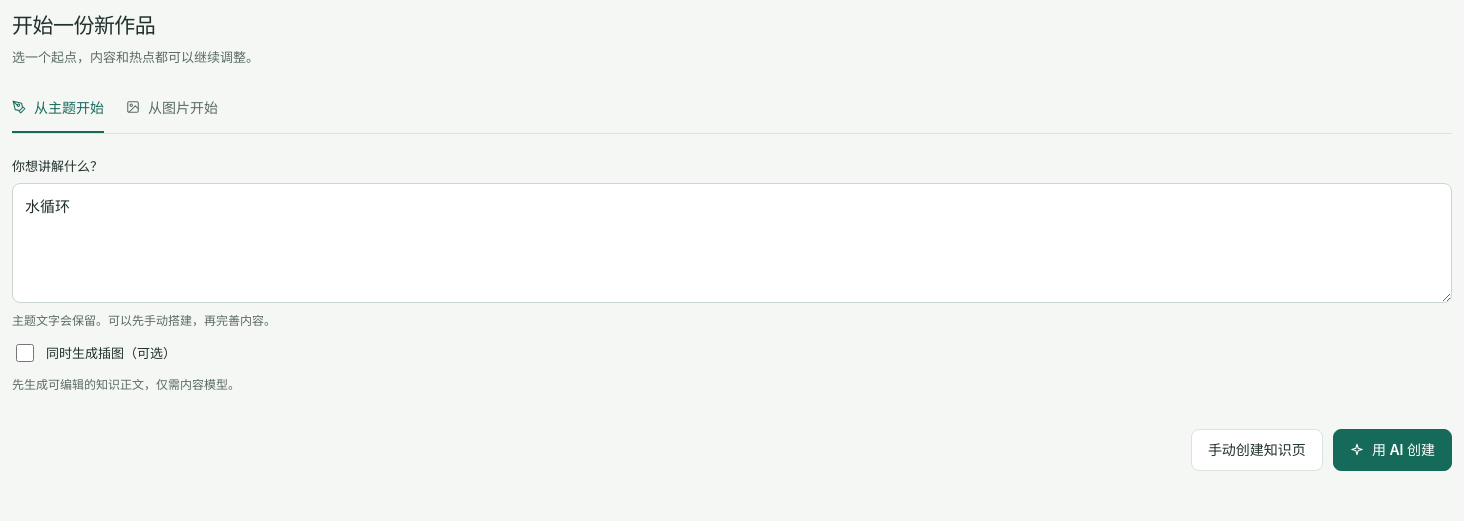
Test case: knowledge-page creation choices › requires image setup only after the author selects an illustration
Click the checkbox labelled "同时生成插图（可选）" at (25, 353), box x1=16 y1=344 x2=34 y2=362
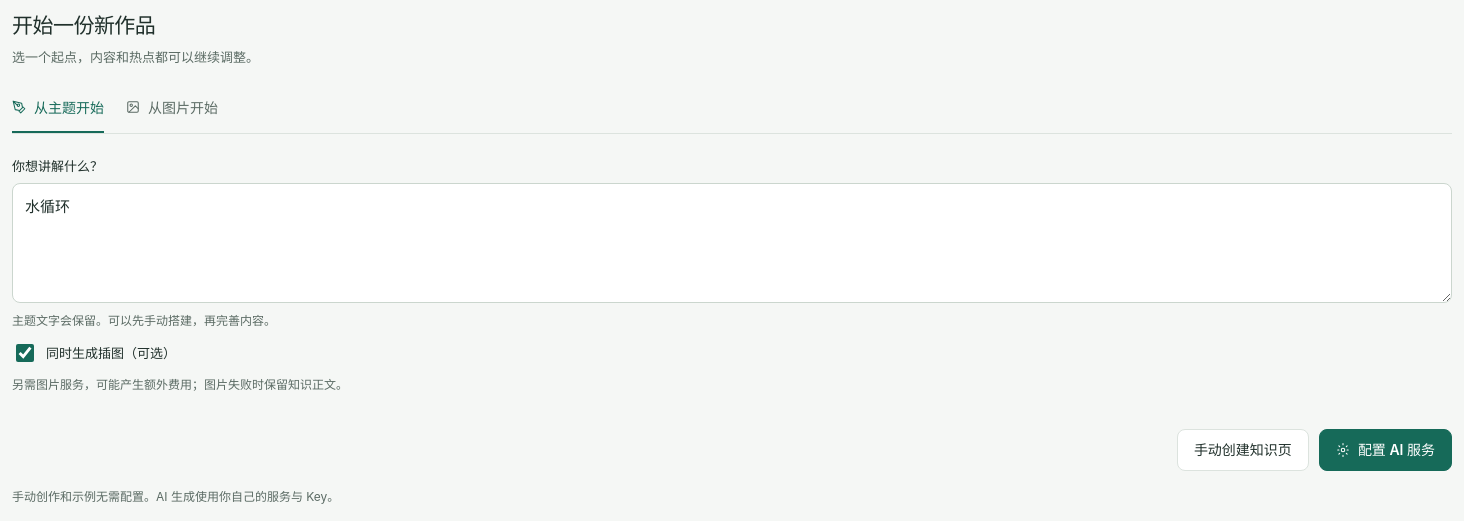
Check: the link "配置 AI 服务" is shown, box x1=1319 y1=429 x2=1452 y2=471
Click the checkbox labelled "同时生成插图（可选）" at (25, 353), box x1=16 y1=344 x2=34 y2=362
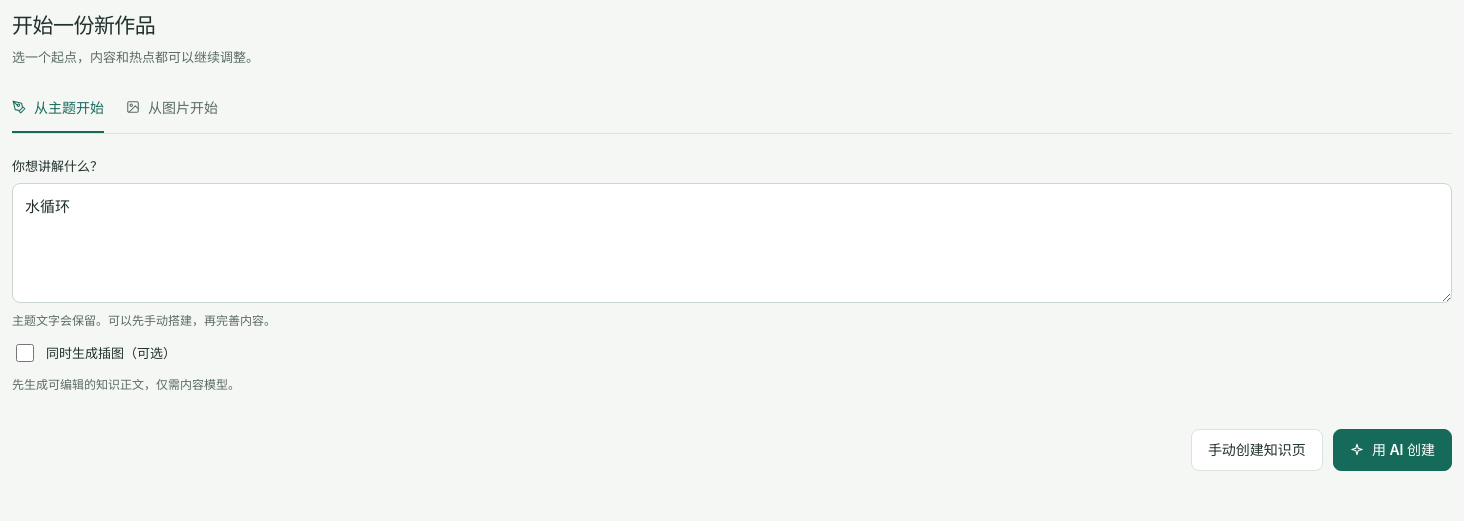
Check: the button "用 AI 创建" is enabled, box x1=1333 y1=429 x2=1452 y2=471
